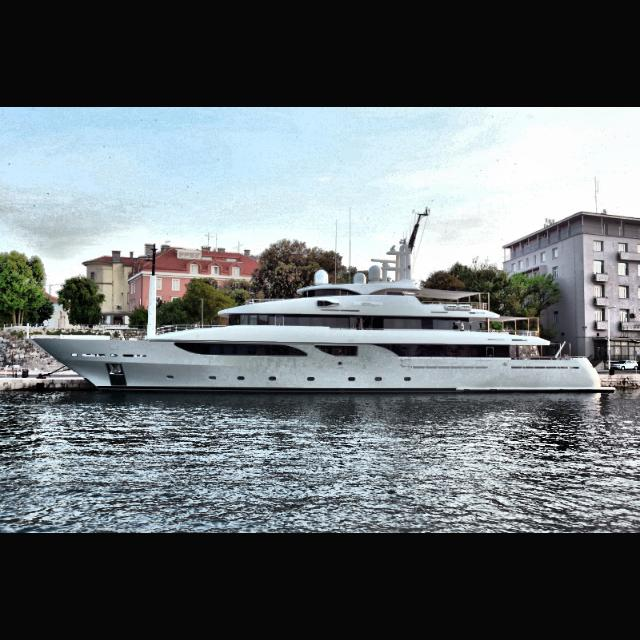yacht: (28, 205, 618, 395)
